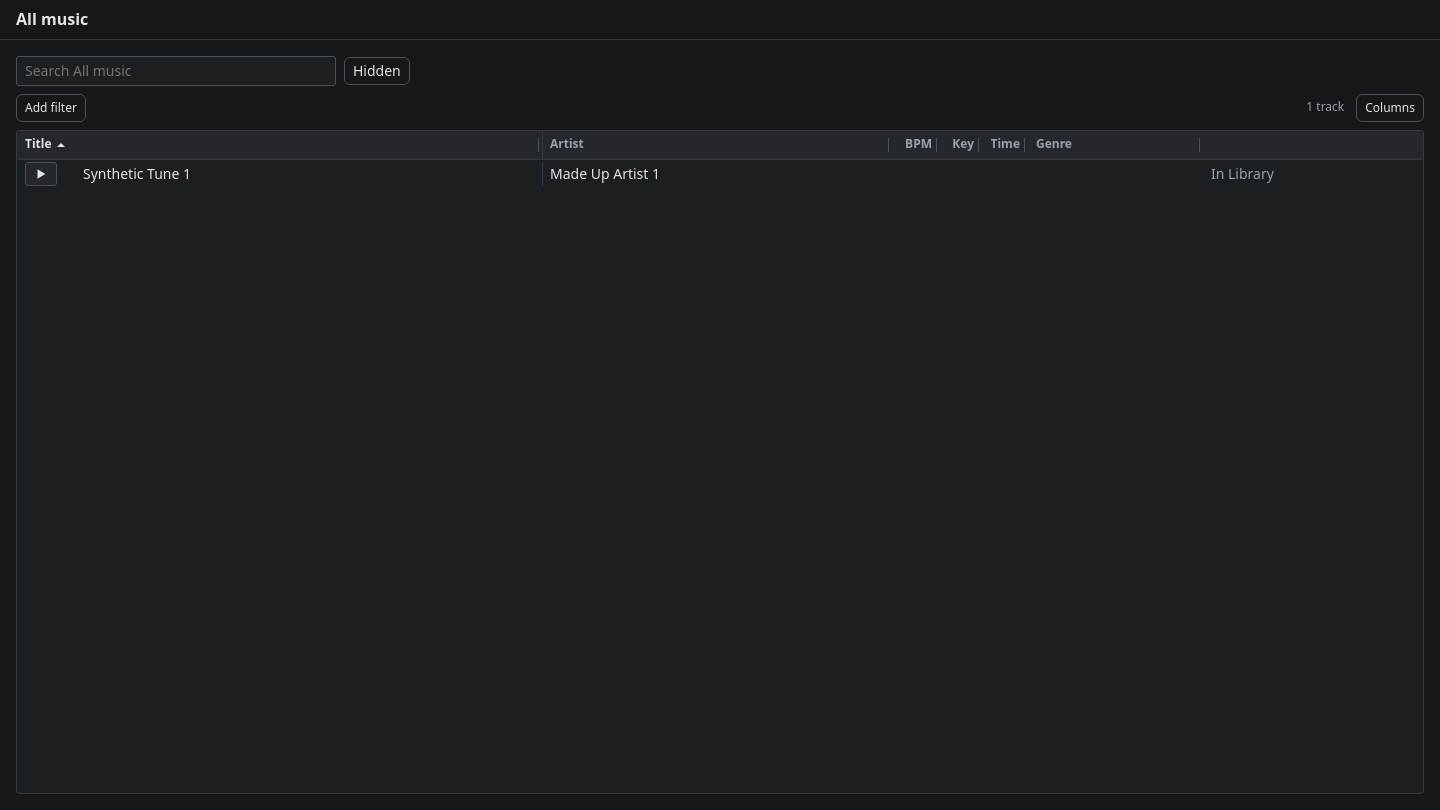
Test: the Hidden filter in All music › names what's absent when nothing is hidden
Click the button "Hidden" at (377, 71), box x1=344 y1=57 x2=410 y2=85
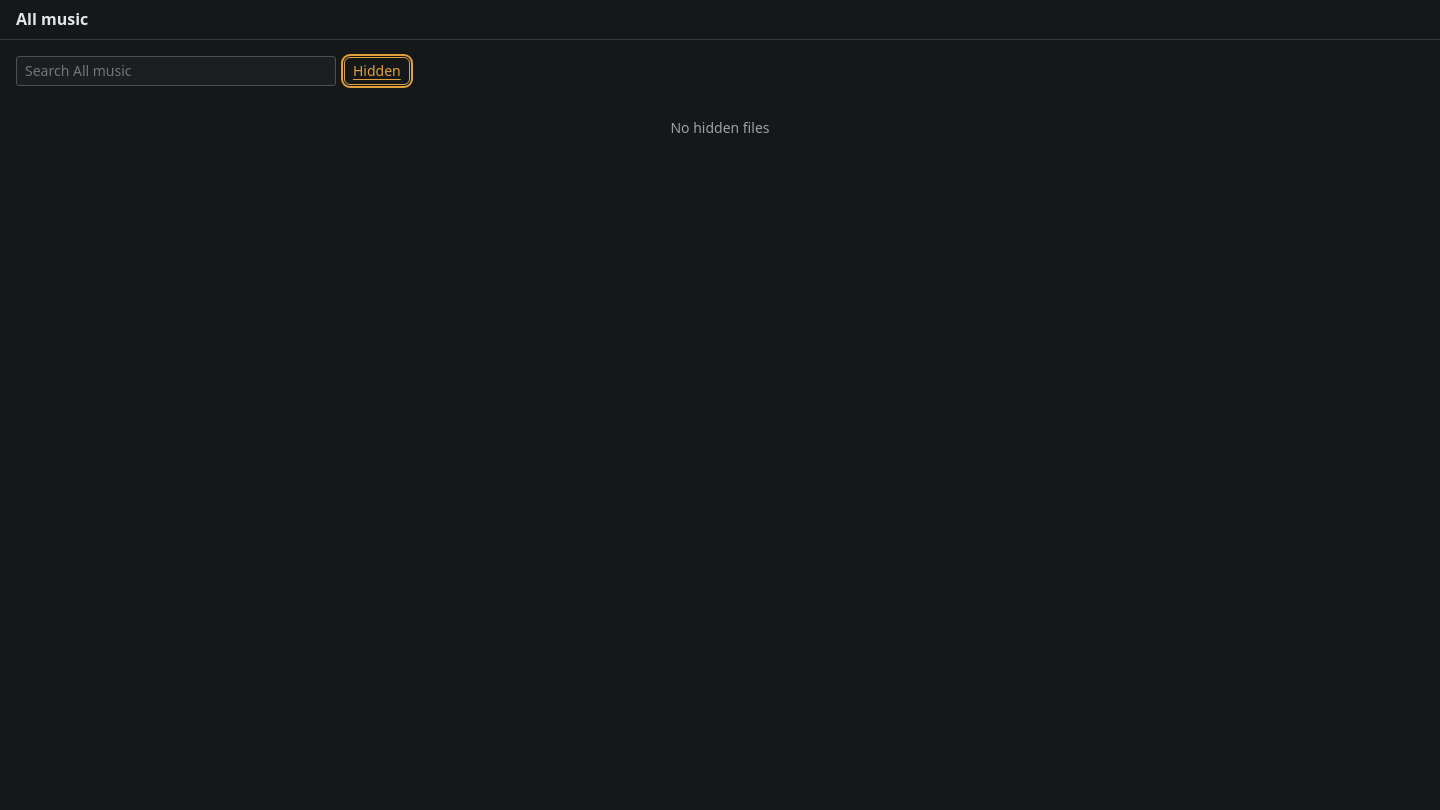
Check: the text "No hidden files" is shown, box x1=670 y1=118 x2=770 y2=137
Check: the table is gone
